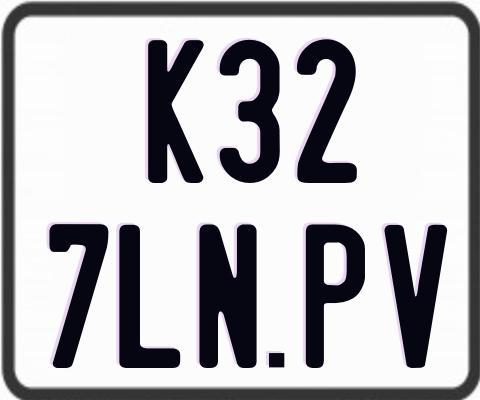2: (297, 38, 362, 188)
3: (217, 40, 278, 183)
7: (46, 224, 106, 371)
K: (146, 38, 206, 183)
L: (118, 225, 182, 368)
N: (196, 222, 255, 371)
P: (304, 222, 363, 369)
V: (382, 224, 447, 367)
